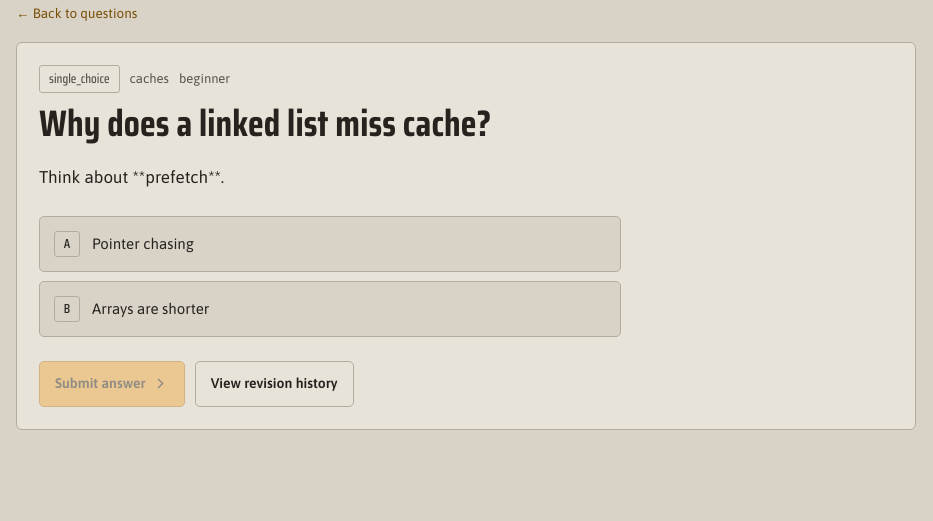
Test: QuestionDetailPage › clears the verdict when the answer changes
The image size is (933, 521).
Click the button "B Arrays are shorter".
click(151, 309)  # box [39,281,621,337]
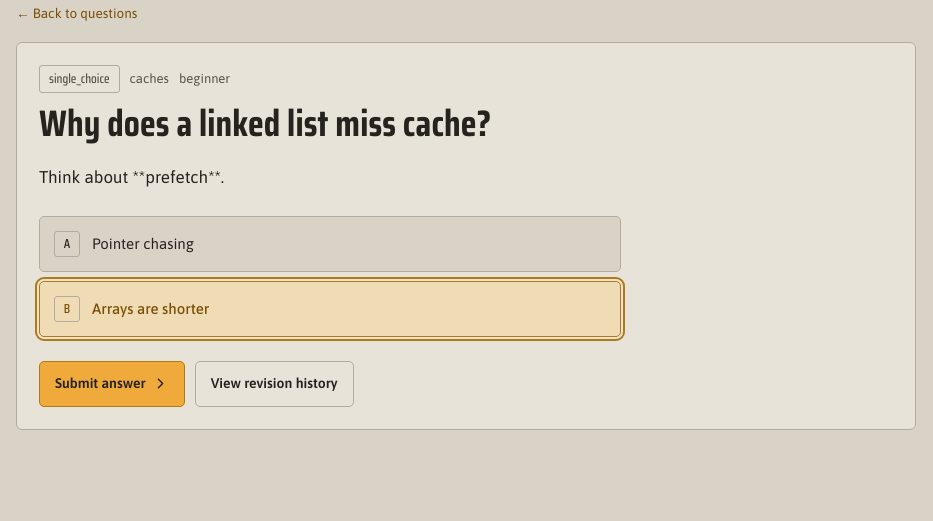
Click the button "Submit answer".
click(112, 384)  # box [39,361,185,407]
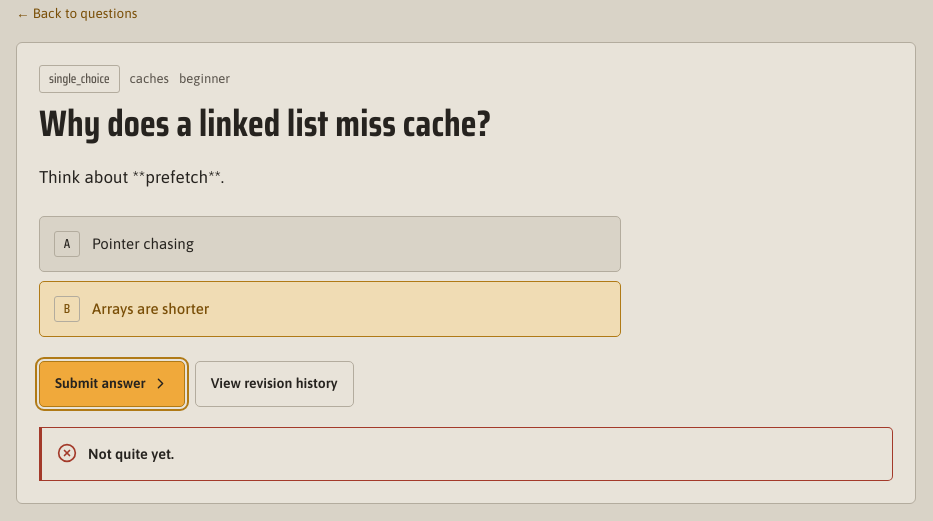
Check: the text "Not quite yet." is shown, box [88,445,174,462]
Click the button "A Pointer chasing".
click(143, 244)  # box [39,216,621,272]
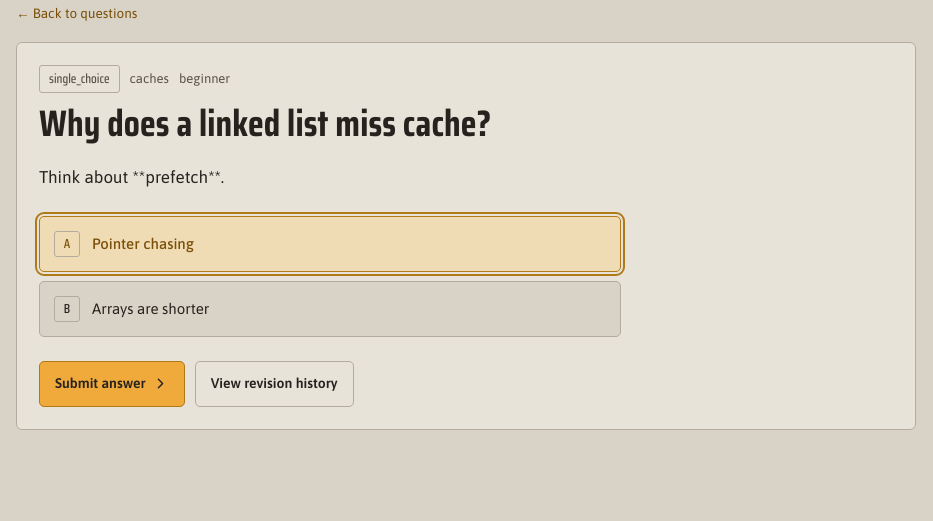
Check: the text "Not quite yet." is gone
